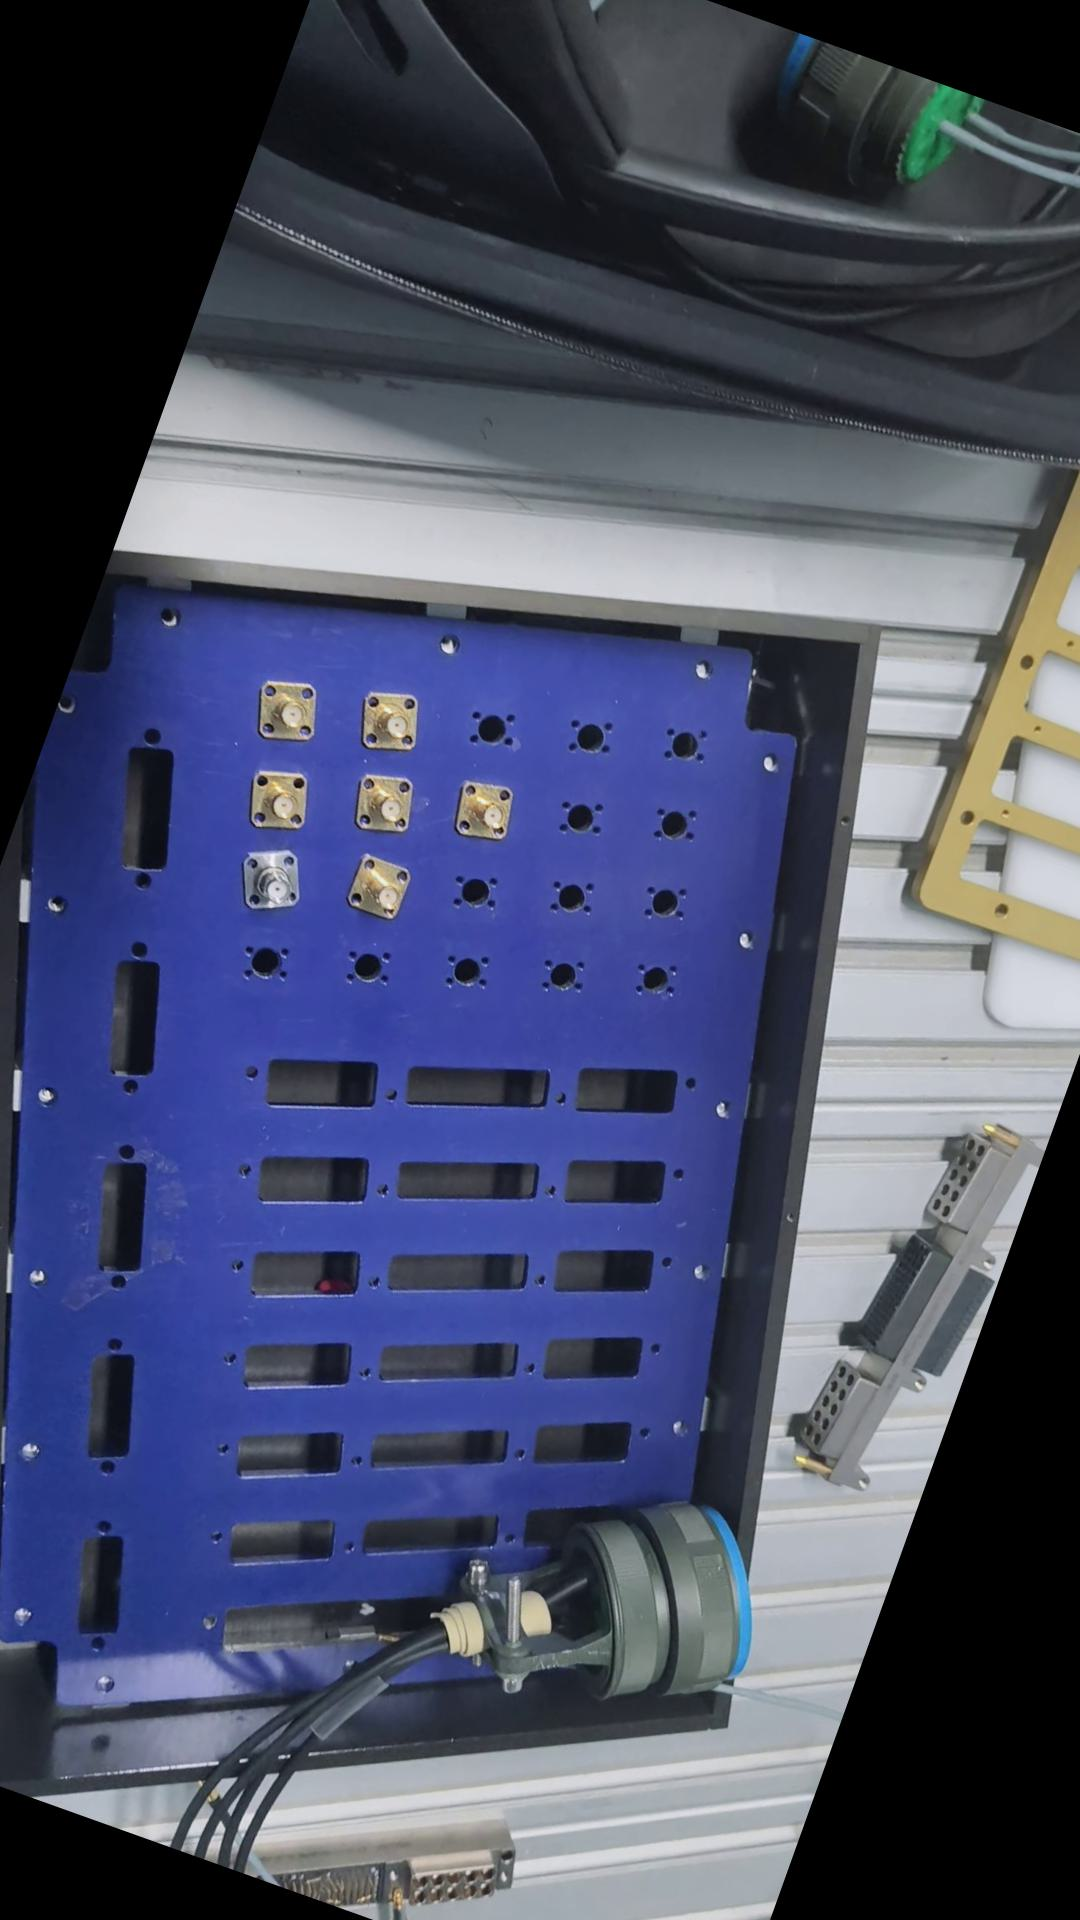SMA: (345, 683, 443, 767), (225, 836, 316, 923), (239, 754, 327, 840), (443, 771, 533, 855), (340, 764, 433, 844), (249, 669, 331, 752), (343, 851, 423, 928)
